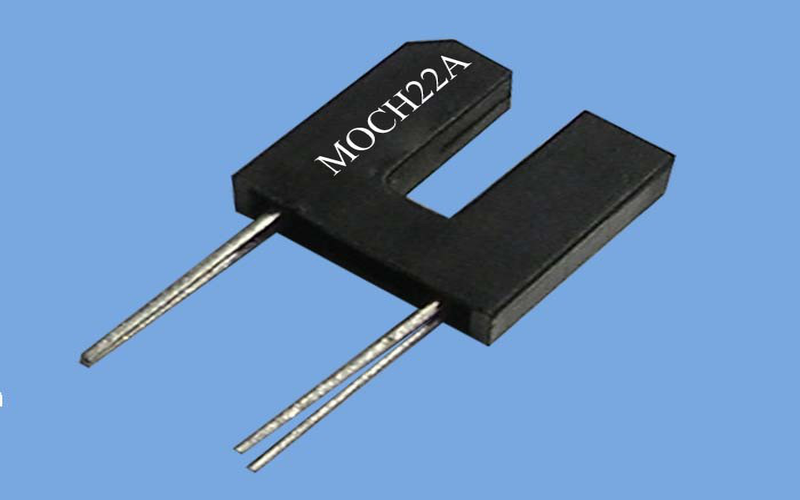Switches: (65, 2, 683, 484)
